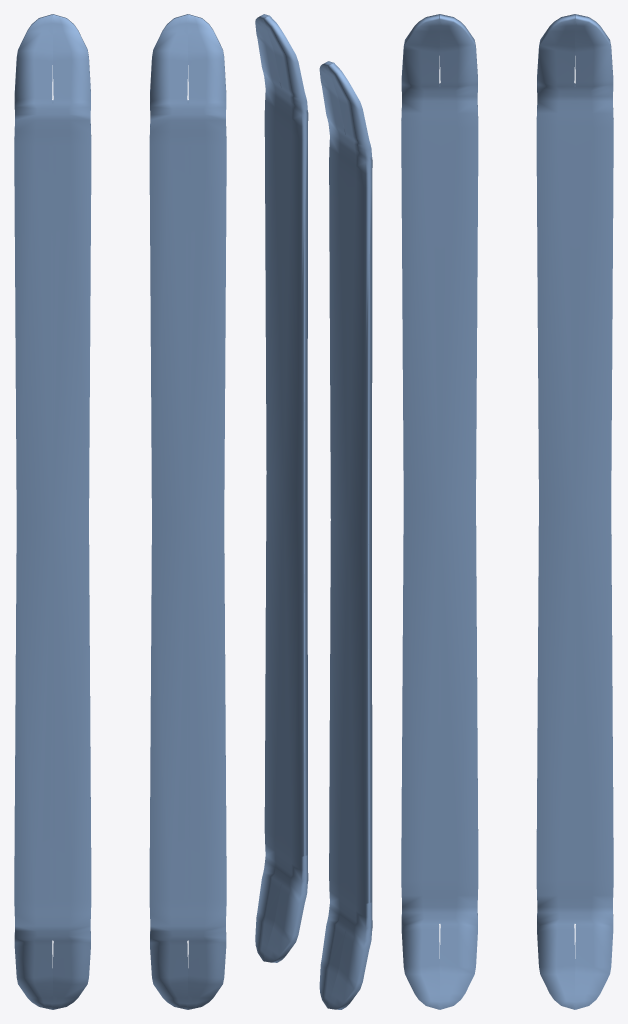
Rendered from freestyle_ski.glb.
The picture shows the model from 3 angles, left to right: view 1: azimuth 90°, elevation 25°; view 2: azimuth 210°, elevation 25°; view 3: azimuth 270°, elevation 25°; orthographic projection. The views are drawn at different scales.
Parts seen in each view (by area): view 1: Cube_0, Cube.001_1; view 2: Cube.001_1, Cube_0; view 3: Cube_0, Cube.001_1.
Part boxes in pixels (x1,y1,x2,y2): Cube_0: (149, 14, 226, 1009); Cube.001_1: (14, 14, 91, 1009); Cube.001_1: (319, 61, 372, 1009); Cube_0: (255, 14, 308, 962); Cube_0: (401, 14, 478, 1009); Cube.001_1: (536, 14, 613, 1009).
Size of the model in its own units: 0.1413 by 4.72 by 0.9146.
